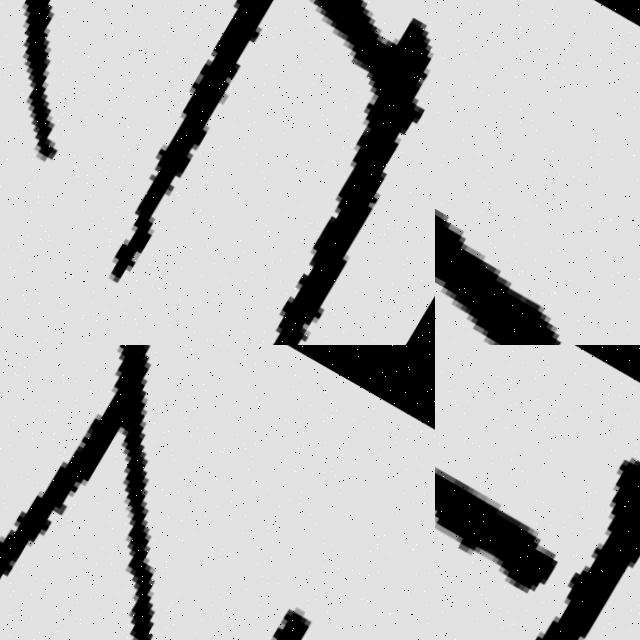E: (267, 0, 433, 345)
J: (435, 0, 640, 345)
P: (435, 345, 640, 640)
Z: (0, 345, 427, 640)
